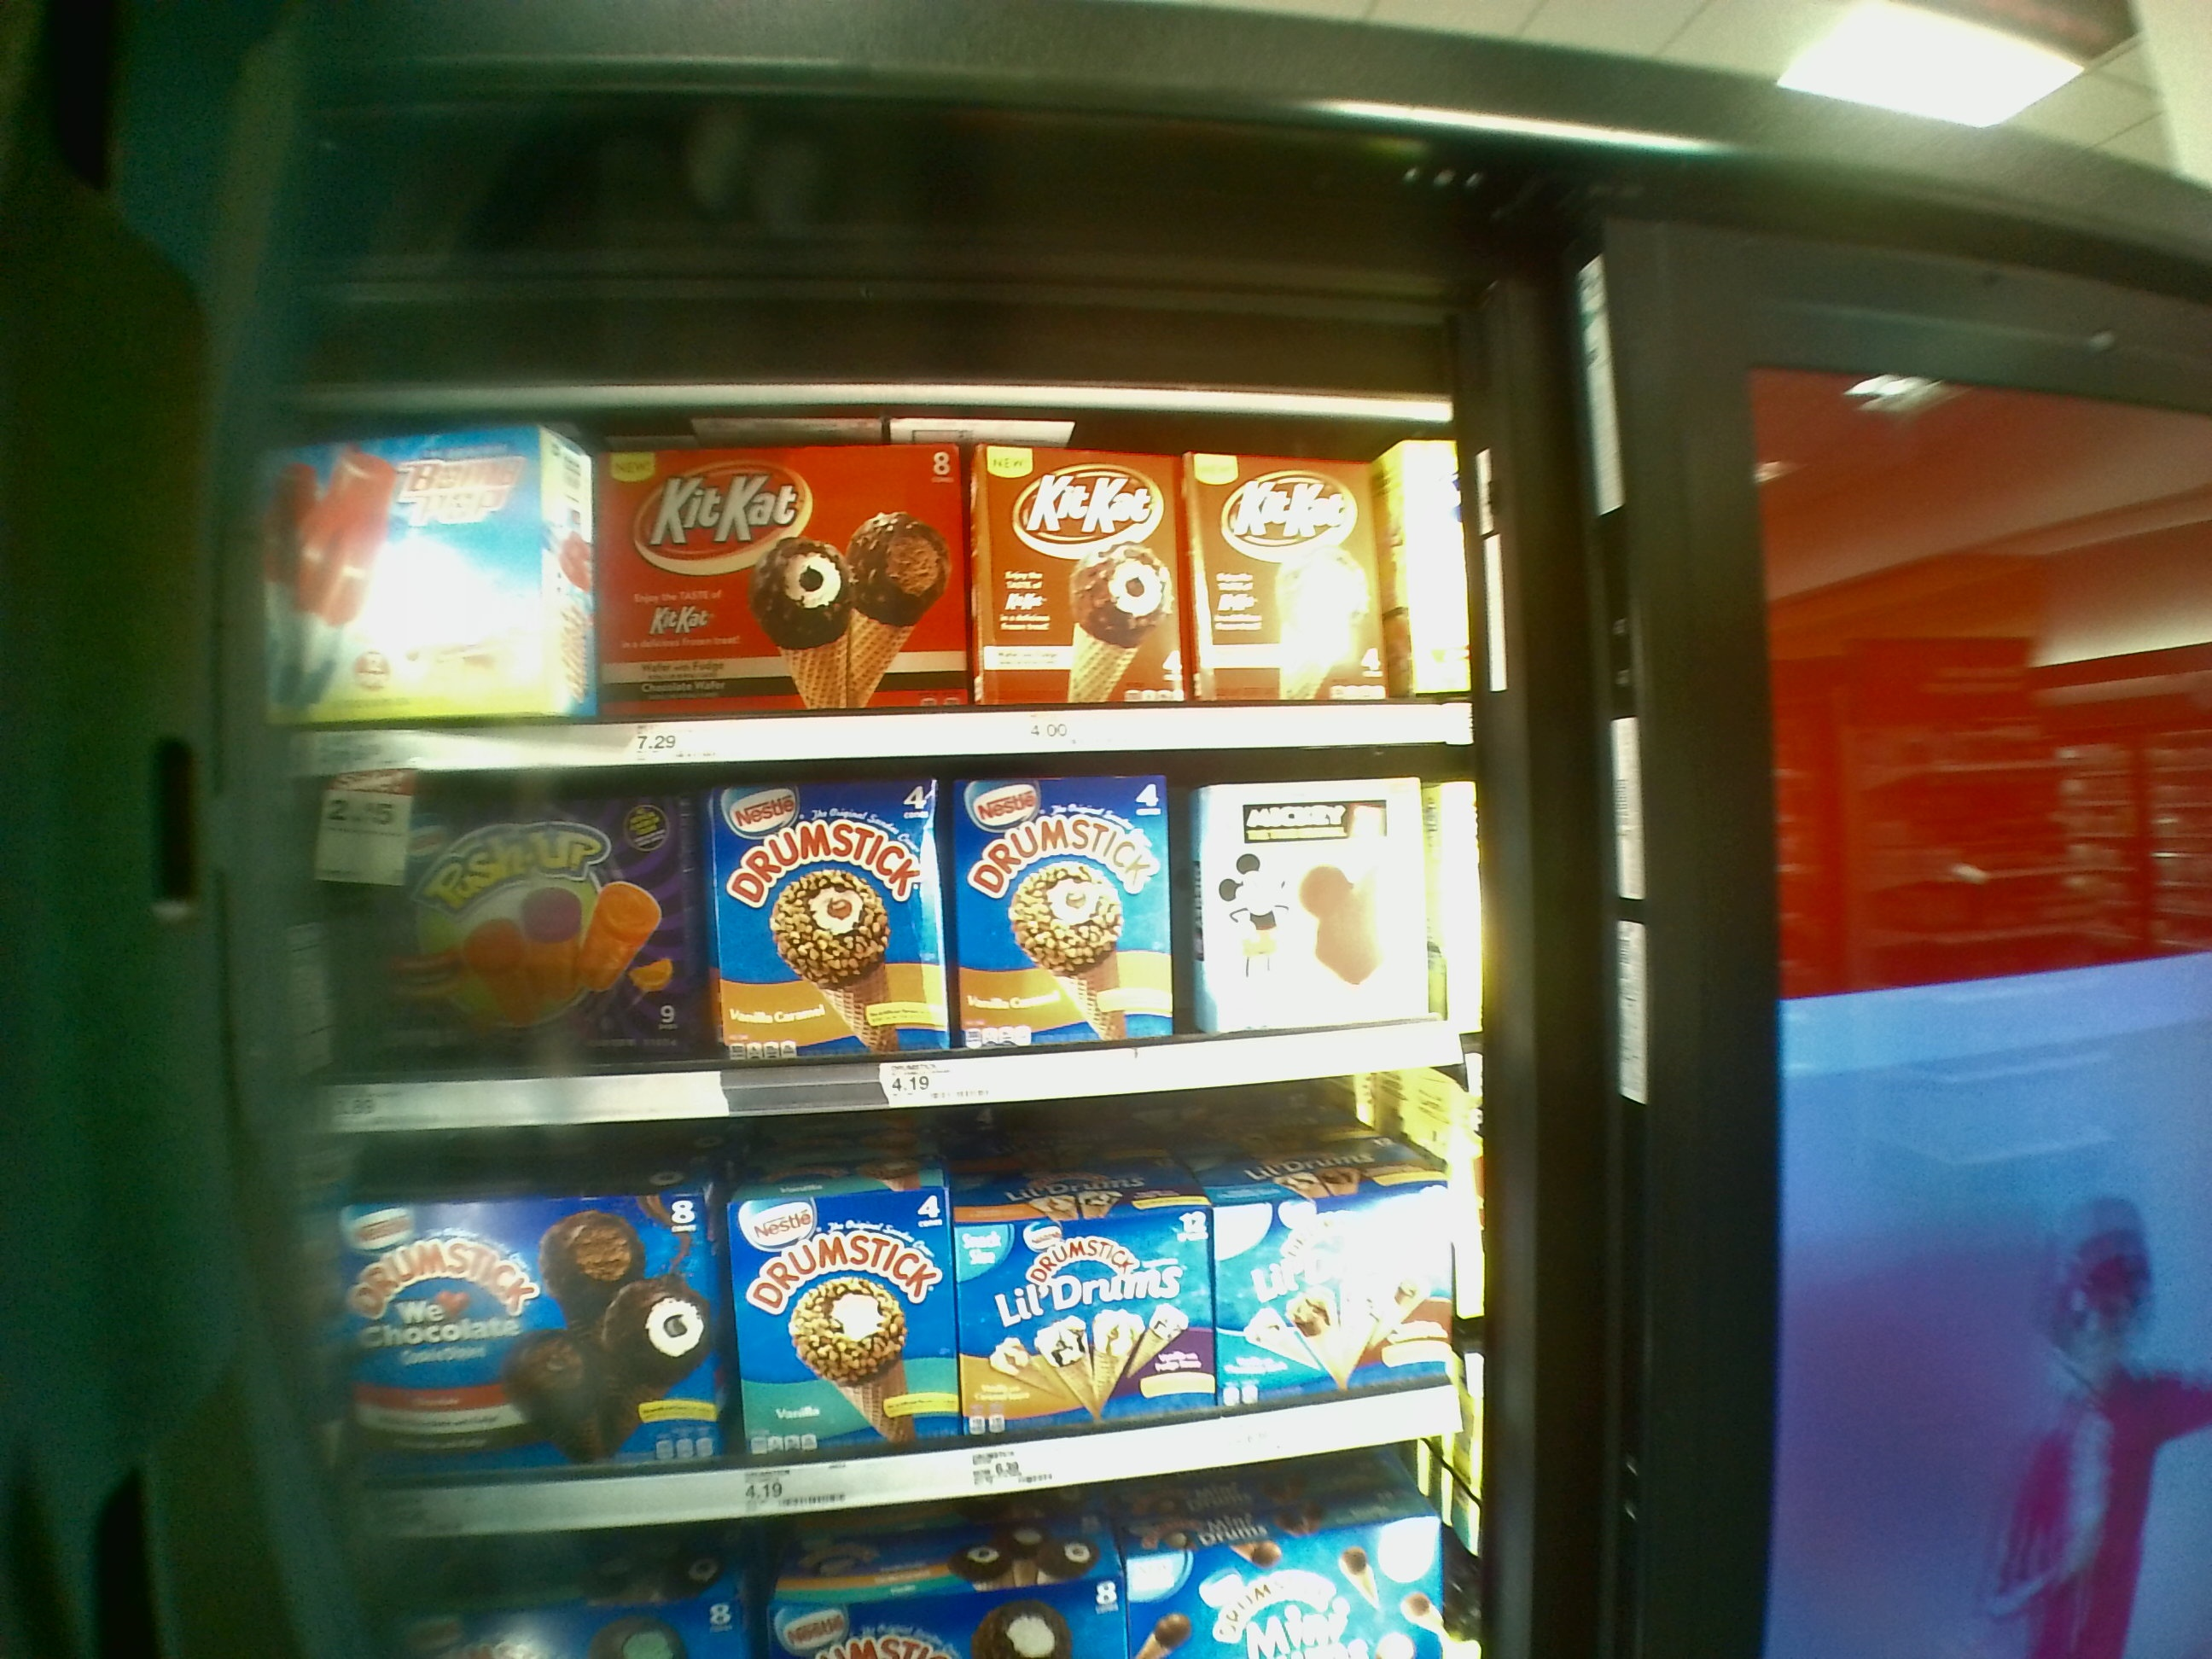shelf: (348, 1126, 1463, 1528), (289, 397, 1461, 777), (319, 775, 1465, 1121)
